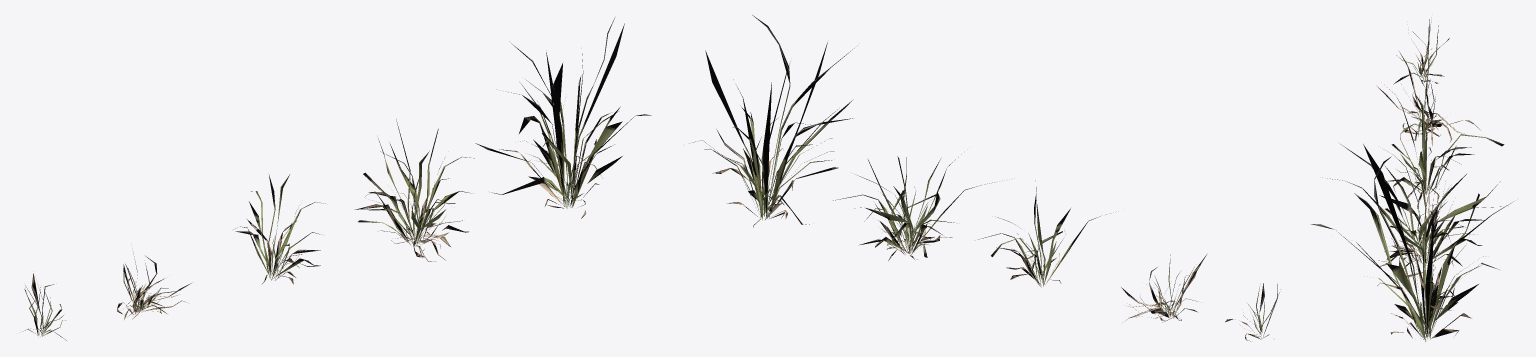
File: grass_medium_02-low.glb
The picture shows the model from 3 angles, left to right: view 1: azimuth 30°, elevation 25°; view 2: azimuth 150°, elevation 25°; view 3: azimuth 270°, elevation 25°; orthographic projection. The views are drawn at different scales.
Visible parts, largest first — view 1: grass_medium_02_e, grass_medium_02_d, grass_medium_02_c, grass_medium_02_b, grass_medium_02_a; view 2: grass_medium_02_e, grass_medium_02_d, grass_medium_02_c, grass_medium_02_b, grass_medium_02_a; view 3: grass_medium_02_e, grass_medium_02_d, grass_medium_02_c, grass_medium_02_b, grass_medium_02_a.
Boxes of the visible parts, <box> form: grass_medium_02_e: <box>475,18,651,218</box>; grass_medium_02_d: <box>355,119,474,261</box>; grass_medium_02_c: <box>233,174,325,284</box>; grass_medium_02_b: <box>117,245,192,319</box>; grass_medium_02_a: <box>20,273,66,340</box>; grass_medium_02_e: <box>693,15,854,227</box>; grass_medium_02_d: <box>833,154,994,260</box>; grass_medium_02_c: <box>978,180,1106,287</box>; grass_medium_02_b: <box>1121,254,1206,322</box>; grass_medium_02_a: <box>1225,283,1279,341</box>; grass_medium_02_e: <box>1311,144,1513,341</box>; grass_medium_02_d: <box>1322,146,1501,276</box>; grass_medium_02_c: <box>1387,89,1504,208</box>; grass_medium_02_b: <box>1376,51,1480,146</box>; grass_medium_02_a: <box>1393,17,1449,84</box>.
Bounding box in the file's own units: 1.29 × 0.4038 × 0.3851.
1 material, 1 textured.
